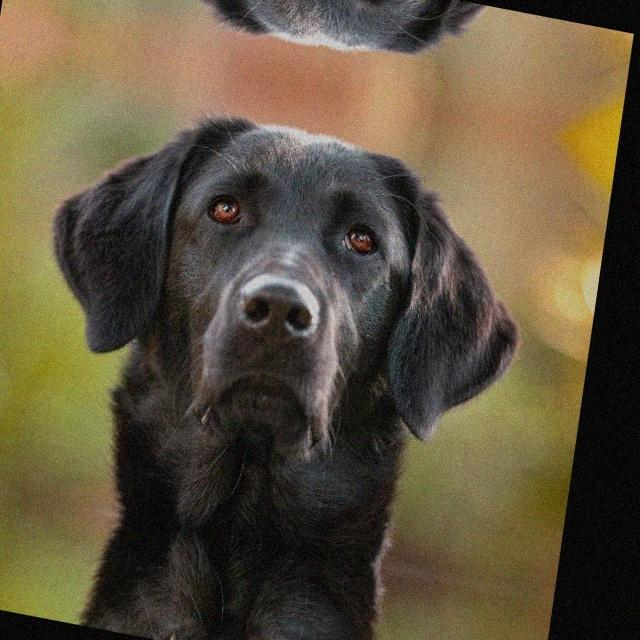dog: (18, 80, 538, 460), (70, 0, 559, 93)
